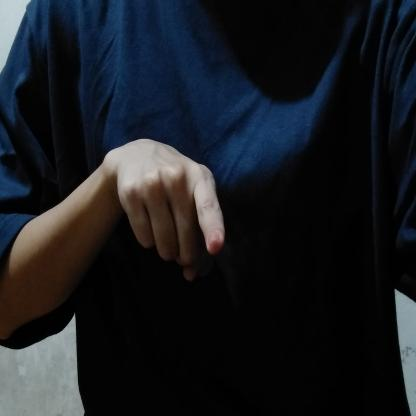you: (99, 130, 236, 285)
